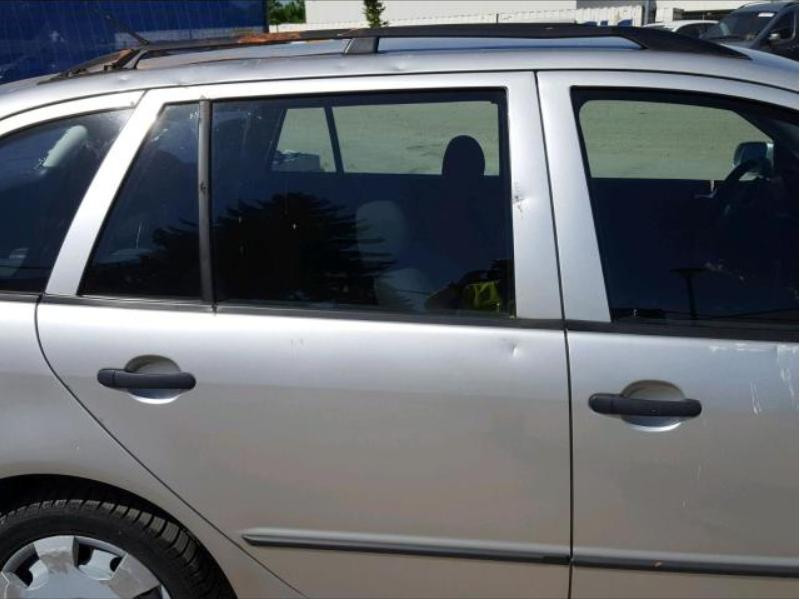Back-door: (33, 71, 569, 599)
Back-wheel: (0, 471, 236, 598)
Back-window: (210, 88, 521, 318), (79, 104, 209, 301), (3, 107, 134, 296)
Front-door: (536, 68, 799, 599)
Front-window: (580, 84, 799, 347)
Quarter-panel: (0, 295, 299, 596)
Roof: (0, 24, 799, 120)
